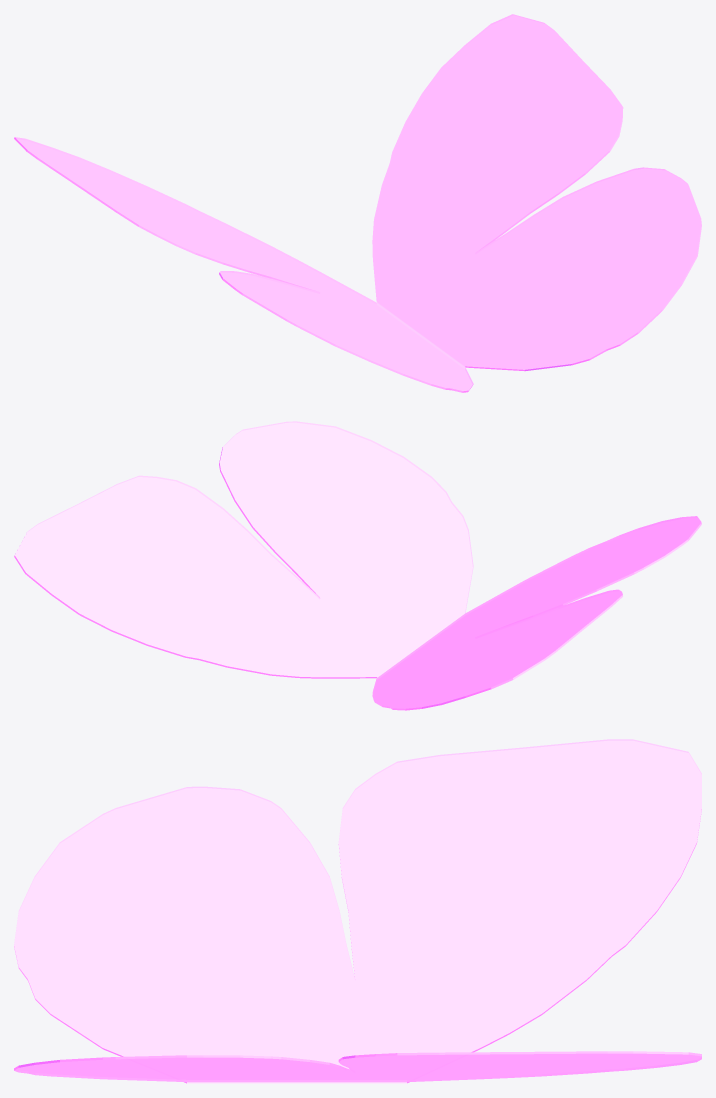
File: butterfly_2.fbx
3 renders of one model, top to bottom at view 1: azimuth 30°, elevation 25°; view 2: azimuth 150°, elevation 25°; view 3: azimuth 270°, elevation 25°, orthographic. The views are drawn at different scales.
Visible parts, largest first — view 1: Plane.005, Plane.004; view 2: Plane.005, Plane.004; view 3: Plane.004, Plane.005.
Boxes of the visible parts, <box> form: Plane.005: <box>372,14,701,371</box>; Plane.004: <box>14,137,473,392</box>; Plane.005: <box>14,421,473,678</box>; Plane.004: <box>372,516,701,710</box>; Plane.004: <box>14,739,701,1083</box>; Plane.005: <box>14,1051,701,1082</box>.
Bounding box in the file's own units: 319 × 89.5 × 295.
